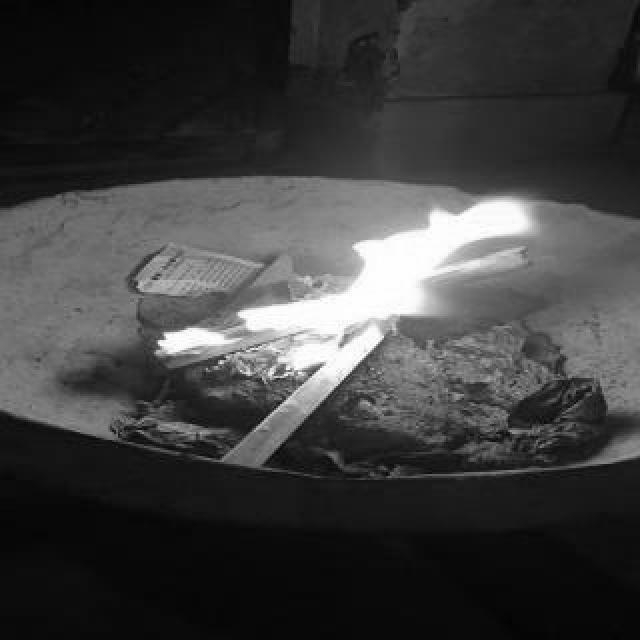Fire: (156, 178, 542, 376)
